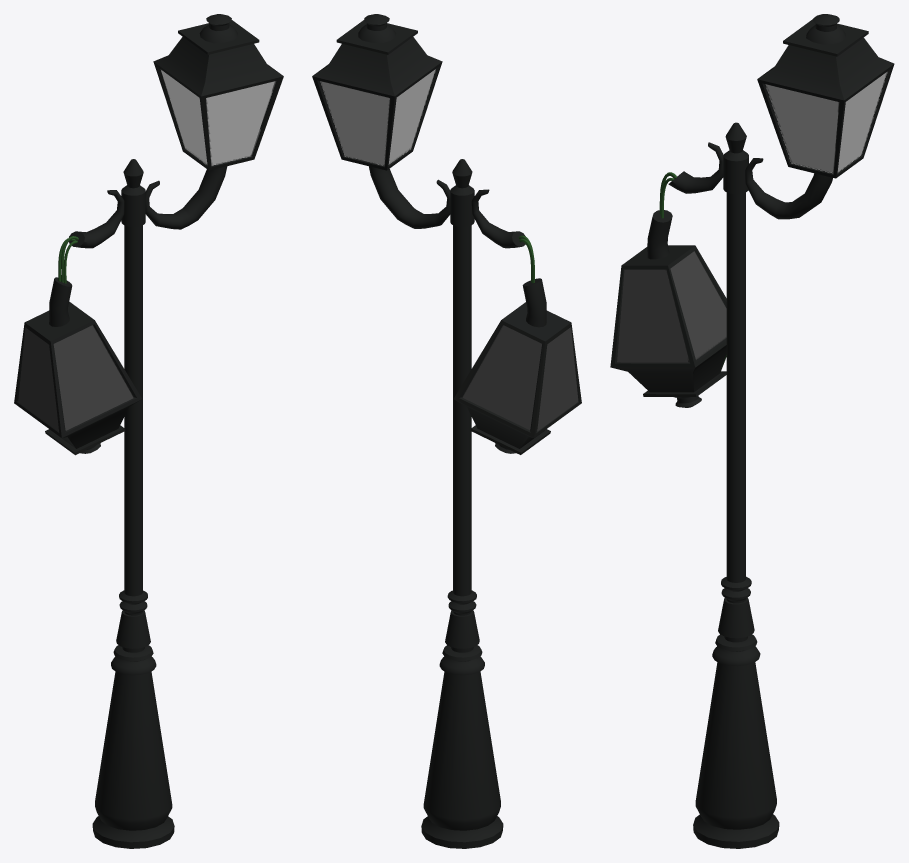
The model's file is LampadaireBrockenTuto.fbx.
The picture shows the model from 3 angles, left to right: view 1: azimuth 30°, elevation 25°; view 2: azimuth 150°, elevation 25°; view 3: azimuth 330°, elevation 25°; orthographic projection. The views are drawn at different scales.
Parts seen in each view (by area): view 1: Cube.004; view 2: Cube.004; view 3: Cube.004.
Part boxes in pixels (x1=…): Cube.004: x1=14, y1=14, x2=283, y2=848; Cube.004: x1=312, y1=14, x2=581, y2=848; Cube.004: x1=610, y1=14, x2=894, y2=848.
Bounding box in the file's own units: 179 × 611 × 66.64.
Materials: 1 (1 with a texture image).
